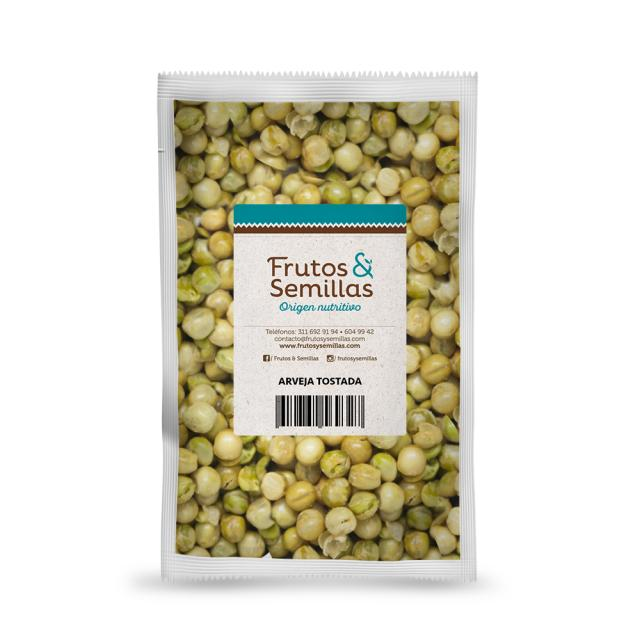arvejas: (174, 100, 455, 208)
